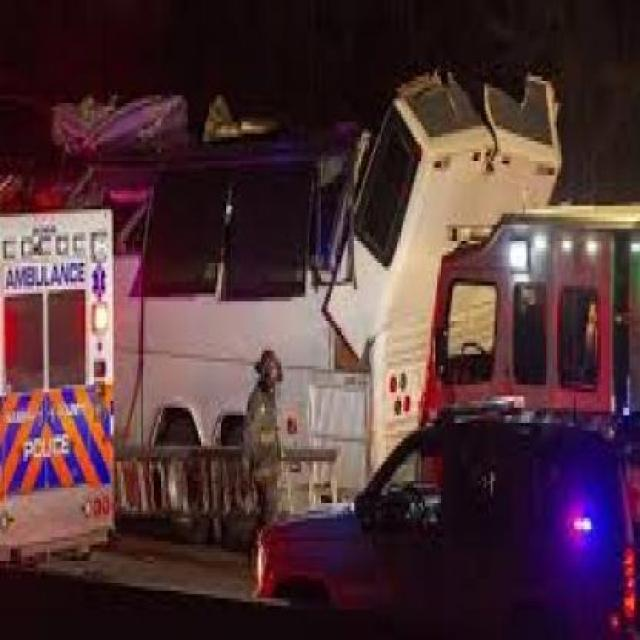accident: (112, 42, 640, 467)
